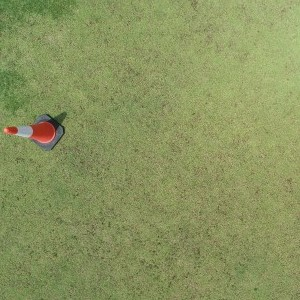traffic cone: (3, 112, 65, 150)
